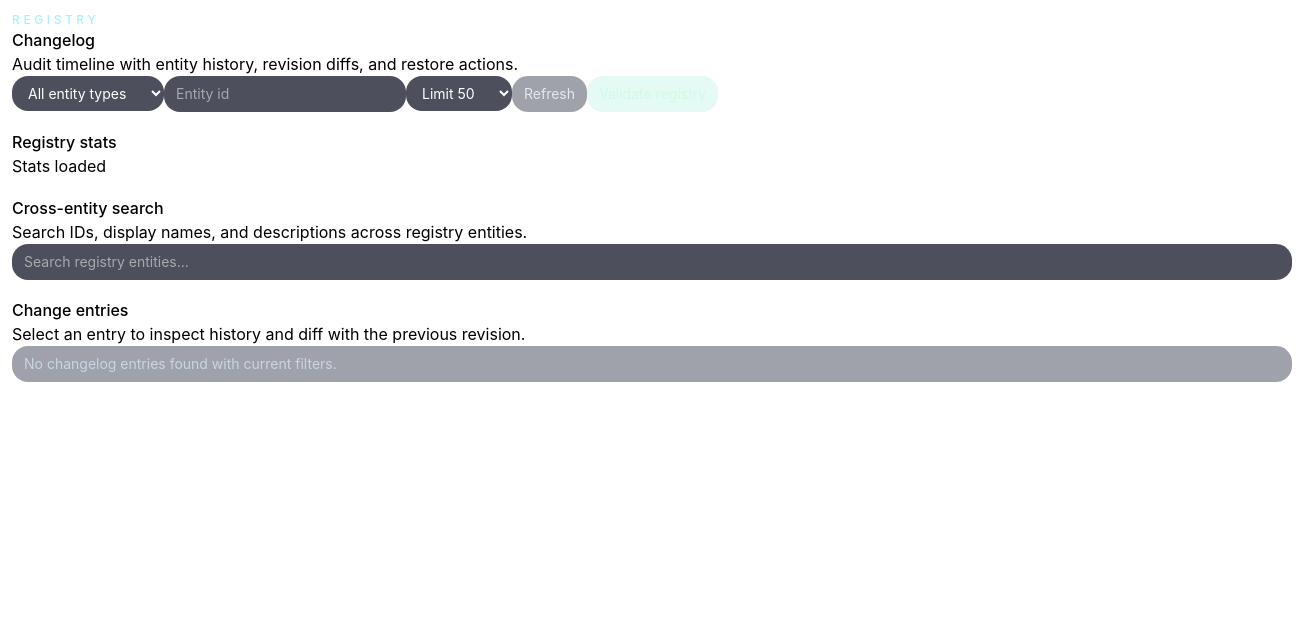
Test case: RegistryChangelogPage validation issues › lists each validation issue with entity, rule, message, severity, and detail link
Step 1. Click the button "Validate registry" → (653, 94), box [587,76,718,112]
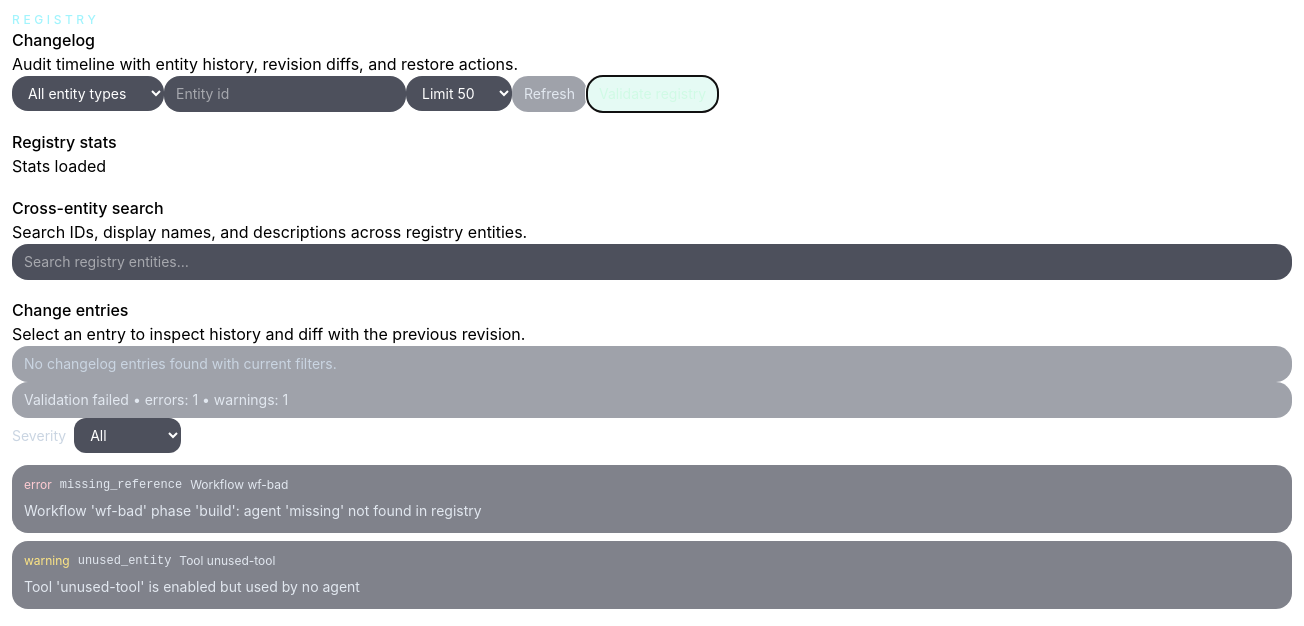
Expected: the text "Validation failed • errors: 1 • warnings: 1" is shown, [12,382,1292,418]
Expected: the text "missing_reference" is shown, [60,477,182,493]
Expected: the text "unused_entity" is shown, [78,553,171,569]
